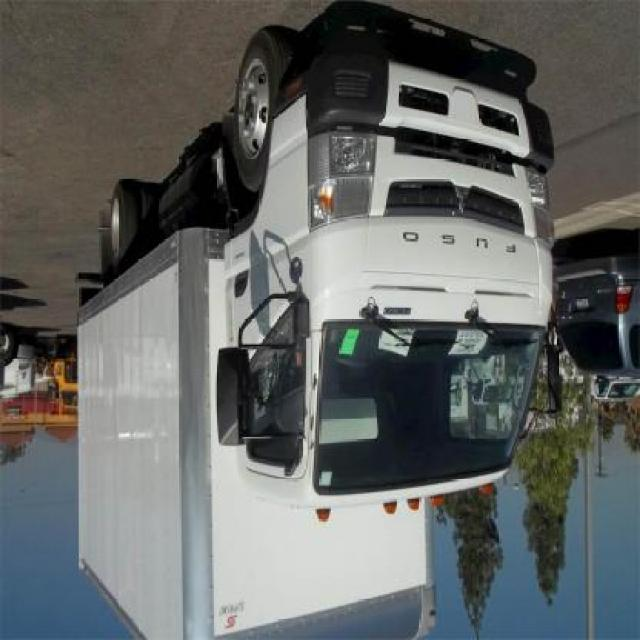truck: (80, 36, 564, 640)
